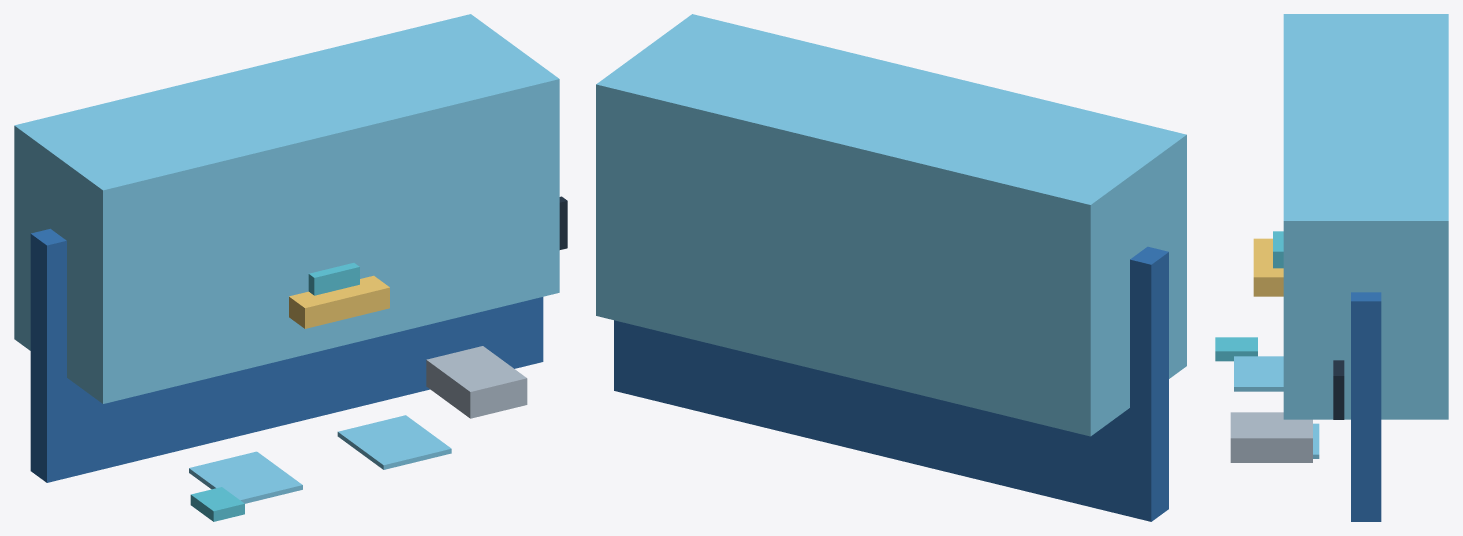
The model's file is compact-pre-glued-sleever.gltf.
3 views of the same model, side by side, from view 1: azimuth 30°, elevation 25°; view 2: azimuth 150°, elevation 25°; view 3: azimuth 270°, elevation 25° (orthographic). The views are drawn at different scales.
Visible parts, largest first — view 1: Machine envelope, Base frame, Electrical cabinet, Service door B, Service door A, Product tooling, Control panel, Pneumatic manifold; view 2: Machine envelope, Base frame; view 3: Machine envelope, Base frame, Electrical cabinet, Service door A, Product tooling, Control panel, Outfeed conveyor, Pneumatic manifold.
Boxes of the visible parts, left/top/right/bottom form: Machine envelope: left=14, top=14, right=559, bottom=403; Base frame: left=30, top=228, right=543, bottom=482; Electrical cabinet: left=426, top=346, right=527, bottom=418; Service door B: left=337, top=415, right=451, bottom=469; Service door A: left=189, top=451, right=302, bottom=503; Product tooling: left=289, top=275, right=389, bottom=328; Control panel: left=190, top=487, right=244, bottom=521; Pneumatic manifold: left=308, top=263, right=359, bottom=295; Machine envelope: left=596, top=14, right=1186, bottom=436; Base frame: left=614, top=246, right=1168, bottom=521; Machine envelope: left=1283, top=14, right=1448, bottom=419; Base frame: left=1351, top=292, right=1381, bottom=521; Electrical cabinet: left=1230, top=412, right=1312, bottom=462; Service door A: left=1234, top=356, right=1283, bottom=391; Product tooling: left=1253, top=238, right=1283, bottom=296; Control panel: left=1215, top=337, right=1257, bottom=361; Outfeed conveyor: left=1333, top=360, right=1344, bottom=419; Pneumatic manifold: left=1273, top=231, right=1283, bottom=268.
Size of the model in its own units: 9.01 by 5.43 by 3.84.
